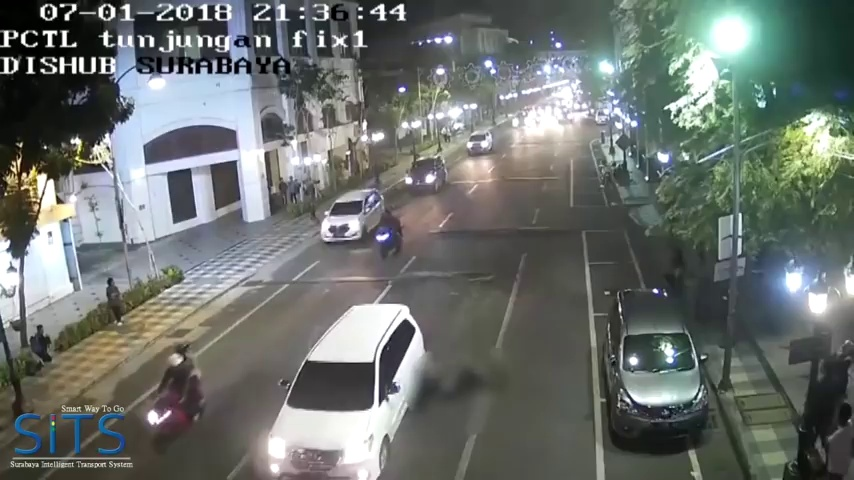car: (264, 301, 431, 472), (603, 288, 709, 442), (325, 191, 387, 244), (406, 155, 448, 193), (466, 132, 491, 158)
motorbike: (148, 345, 206, 443), (375, 206, 405, 257)
